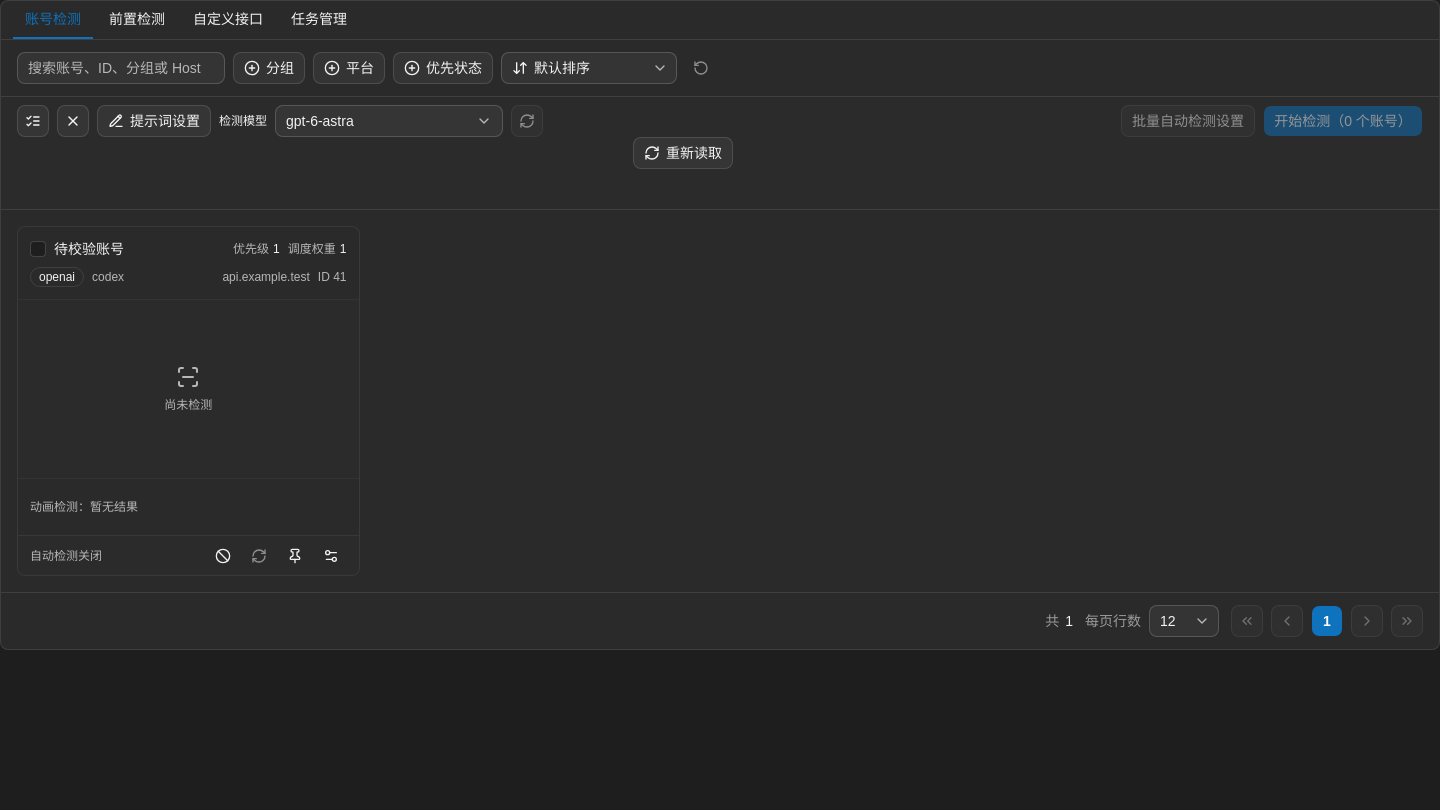
Scenario: 本页添加手动控制成功后立即显示标记和调整入口
The width and height of the screenshot is (1440, 810).
Click the button named "设置手动控制".
click(294, 556)  # box [278,540,310,572]
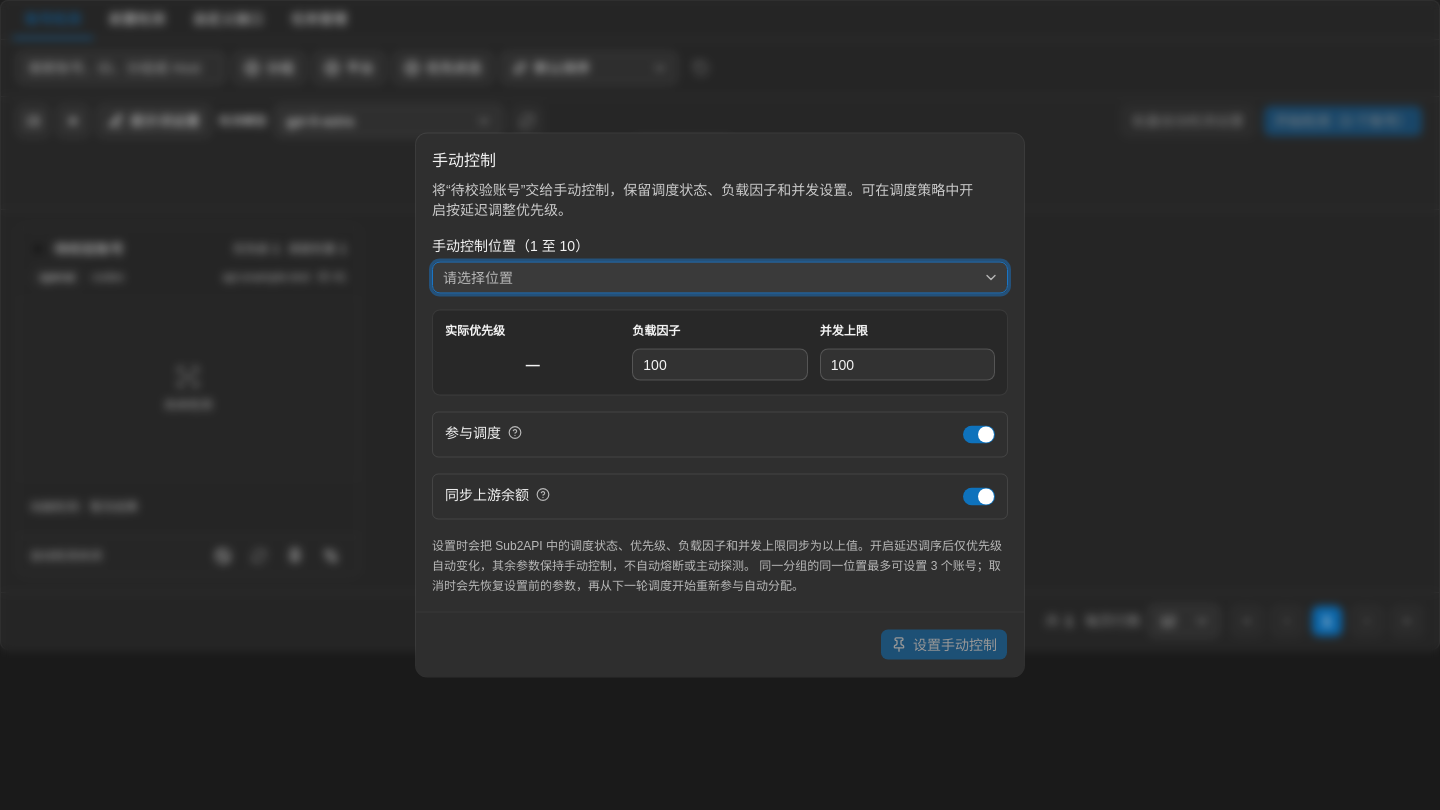
Click the dropdown named "选择手动控制位置".
click(478, 278)  # box [432,262,1008,294]
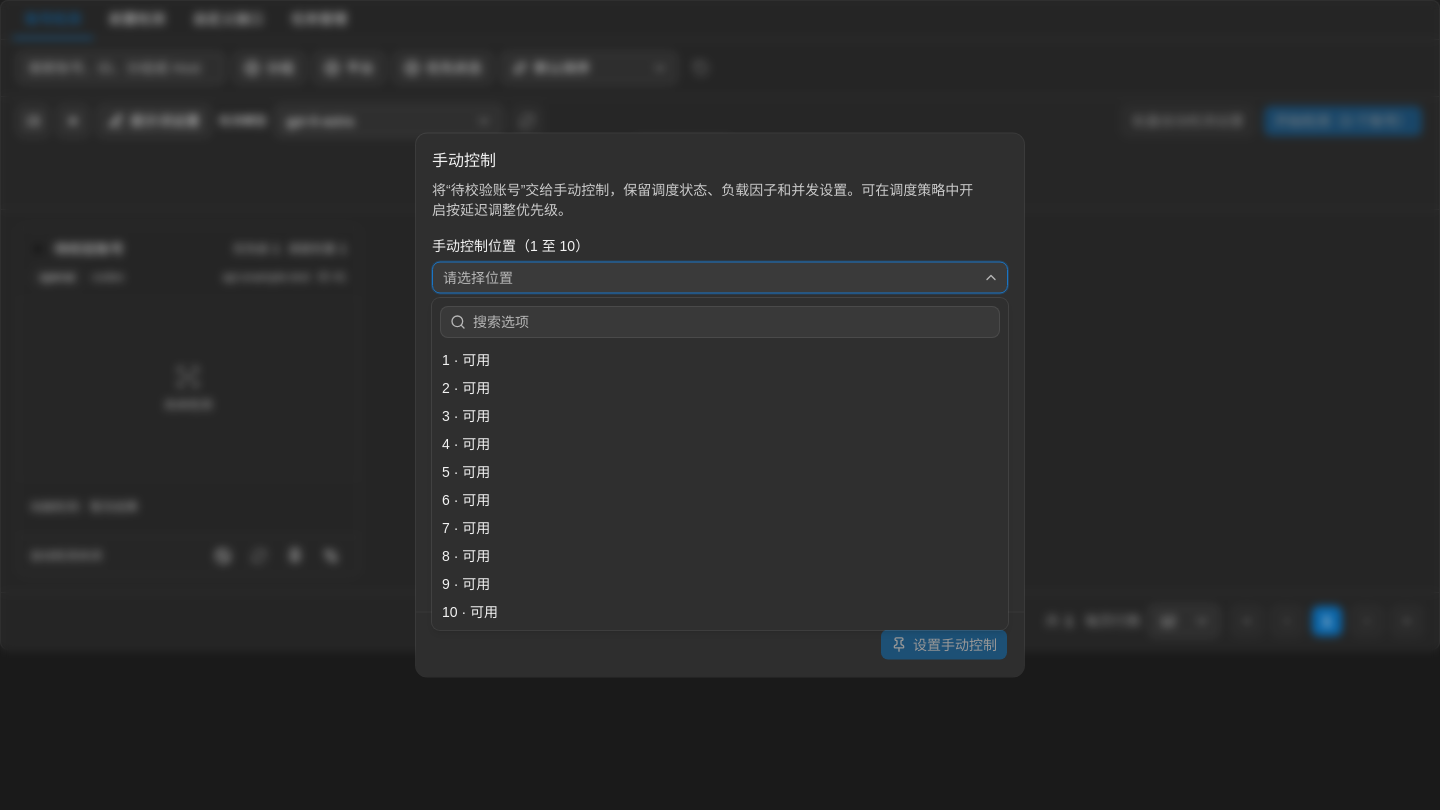
Click the option "1 · 可用".
click(466, 360)  # box [442,352,490,368]
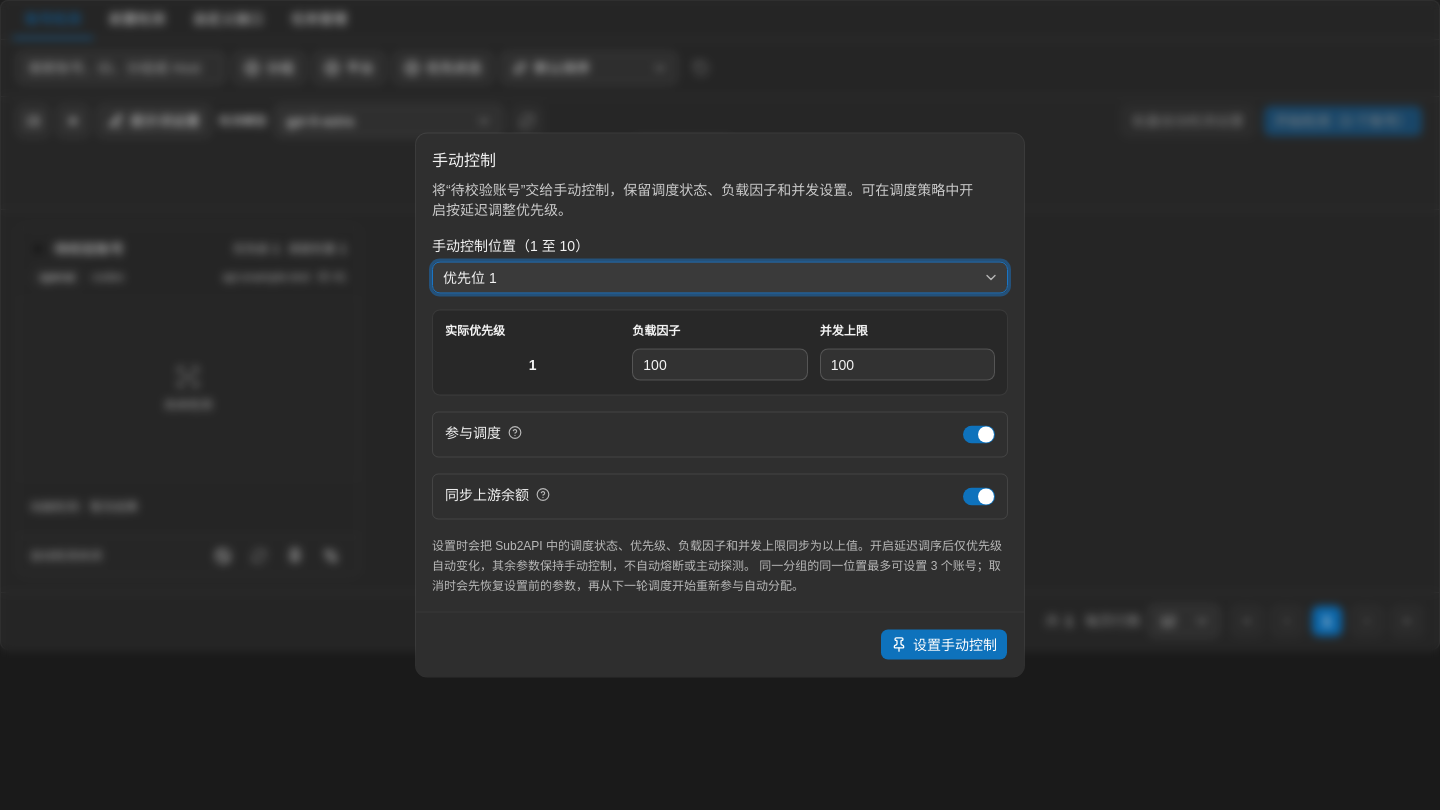
Click the button "设置手动控制".
click(944, 644)  # box [880,628,1008,660]
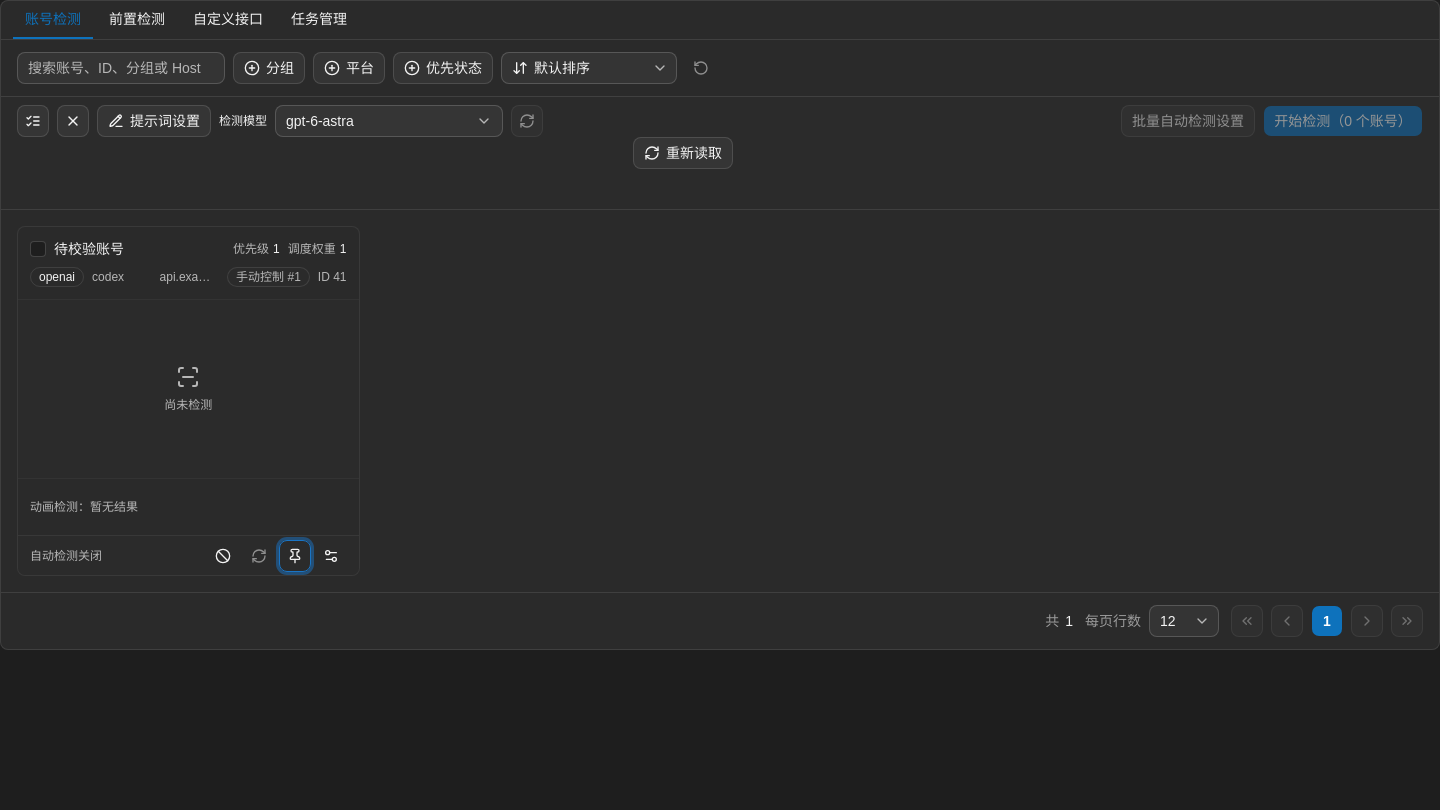
Check: the button named "调整手动控制" is enabled, box [278,540,310,572]
Check: the dialog is gone
Check: the text "手动控制 #1" is shown, box [236,269,301,285]
